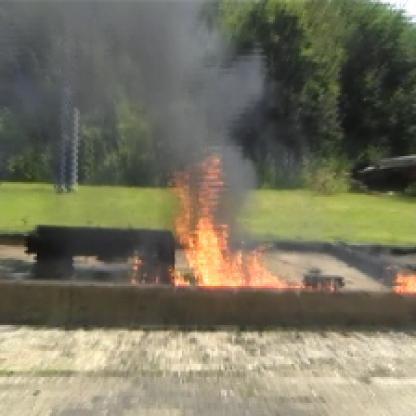Fire: (163, 152, 329, 296)
Smoke: (2, 2, 226, 145)
